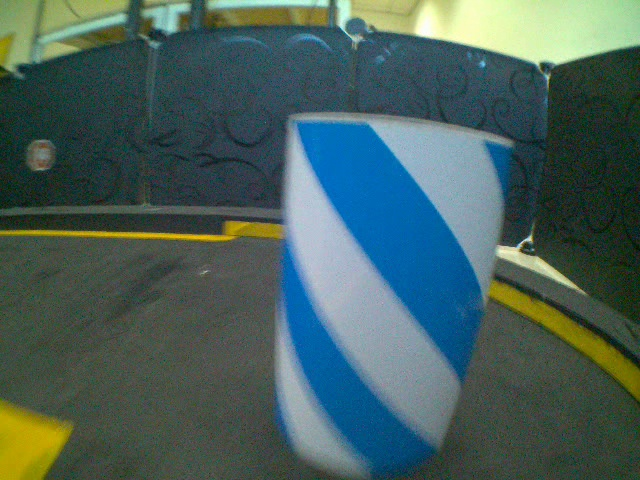bucket: (272, 117, 530, 480)
